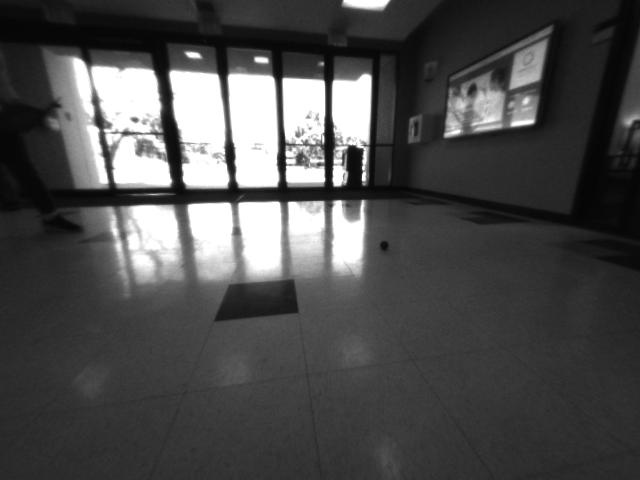dogtoy: (369, 232, 407, 263)
